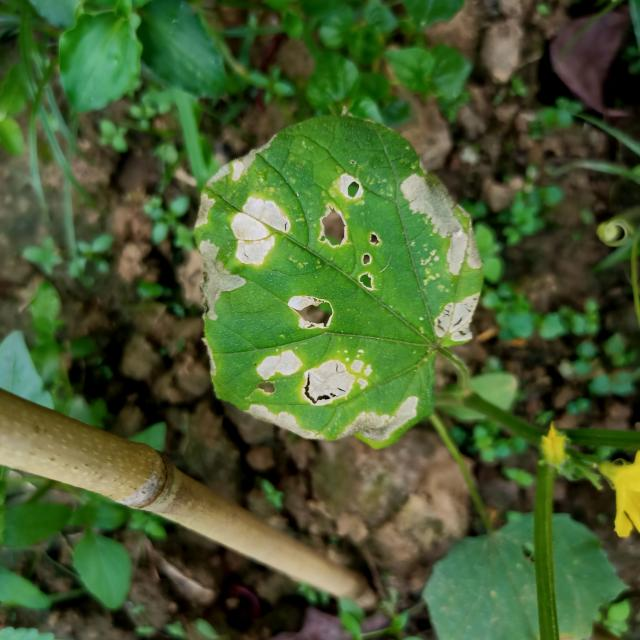disease_cucumber: (192, 140, 360, 342), (361, 162, 486, 347), (241, 343, 420, 451)
